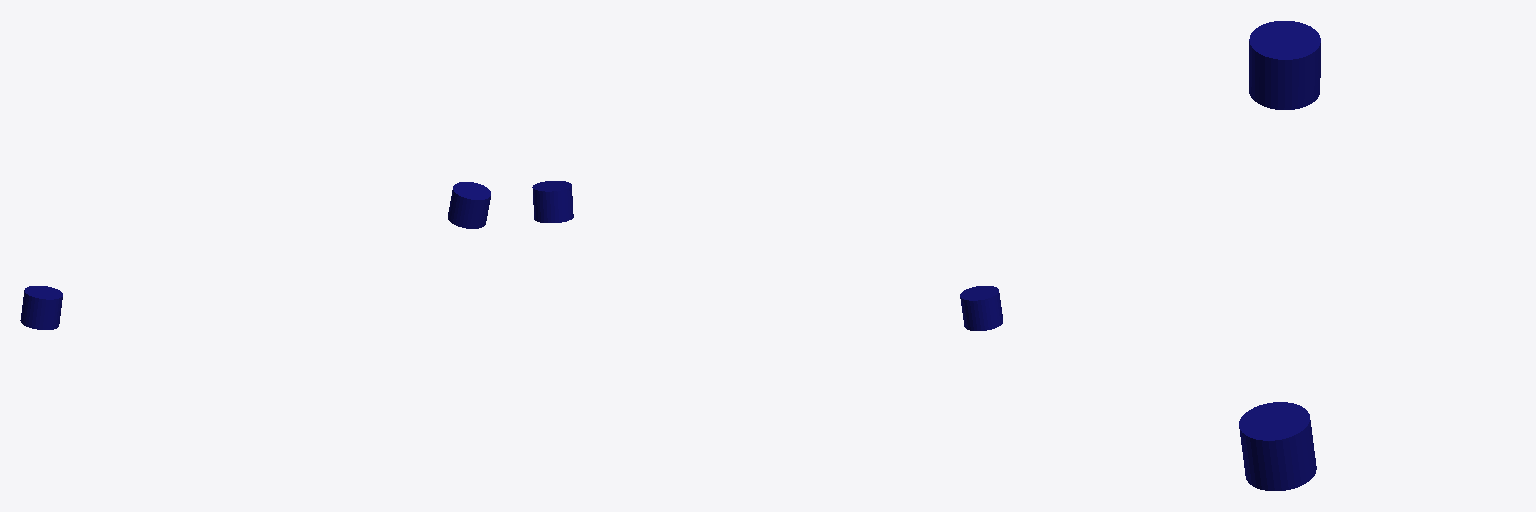
robot.urdf — leo_golf:
<?xml version="1.0" ?>
<!-- TODO: Add GPS sensor -->
<robot name="leo_golf">
  <material name="black">
    <color rgba="0.2 0.2 0.2 1"/>
  </material>
  <material name="blue">
    <color rgba="0.1 0.1 0.5 1"/>
  </material>

  <!-- base_link relates to its projection on the ground by this offset:
    <origin xyz="0 0 0.31" rpy="0 0 0"/>
  -->


  <link name="base_link">
    <visual>
      <geometry>
        <mesh filename="package://leo_golf_description/meshes/LeoGolf.obj" scale="0.001 0.001 0.001"/>
      </geometry>
      <material name="black"/>
      <origin xyz="0.83 0 0.31" rpy="0 0 1.570796"/>
    </visual>
    <collision>
      <geometry>
        <box size="5.5 2.25 2"/>
      </geometry>
      <origin xyz="0.83 0 0.31" rpy="0 0 0"/>
    </collision>
    <inertial>
      <!-- TODO: Get or calculate inertia values -->
      <origin xyz="0 0 0.013" rpy="0 0 0"/>
      <mass value="0.25"/>
      <inertia ixx="0.0003350833" ixy="0" ixz="0"
        iyy="0.000560417" iyz="0"
        izz="0.000478833"/>
    </inertial>
  </link>

  <link name="lidar_front">
    <visual>
      <geometry>
        <cylinder length="0.0869" radius="0.05165"/>
      </geometry>
      <material name="blue"/>
    </visual>
    <collision>
      <geometry>
        <cylinder length="0.0869" radius="0.05165"/>
      </geometry>
    </collision>
    <inertial>
      <!-- TODO: Get or calculate inertia values -->
      <mass value="0.1"/>
      <inertia ixx="1.02083e-5" ixy="0" ixz="0"
        iyy="1.02083e-5" iyz="0"
        izz="2e-5"/>
    </inertial>
  </link>

  <joint name="lidar_front_joint" type="fixed">
    <parent link="base_link"/>
    <child link="lidar_front"/>
    <origin xyz="1.4 0 1.422" rpy="0.111496 0.125004 0.0215759"/>
  </joint>

  <link name="lidar_rear">
    <visual>
      <geometry>
        <cylinder length="0.0869" radius="0.05165"/>
      </geometry>
      <material name="blue"/>
    </visual>
    <collision>
      <geometry>
        <cylinder length="0.0869" radius="0.05165"/>
      </geometry>
    </collision>
    <inertial>
      <!-- TODO: Get or calculate inertia values -->
      <mass value="0.1"/>
      <inertia ixx="1.02083e-5" ixy="0" ixz="0"
        iyy="1.02083e-5" iyz="0"
        izz="2e-5"/>
    </inertial>
  </link>

  <joint name="lidar_rear_joint" type="fixed">
    <parent link="base_link"/>
    <child link="lidar_rear"/>
    <origin xyz="0.1 0.01 1.422" rpy="3.13 0.146539 0"/>
  </joint>
</robot>

--- Render facts (derived) ---
3 views of the same robot in one strip: view 1: azimuth 30°, elevation 25°; view 2: azimuth 150°, elevation 25°; view 3: azimuth 270°, elevation 25° (orthographic).
Model leo_golf with 3 links and 2 joints (2 fixed), rooted at base_link, posed every joint at zero.
Links seen in each view (by area): view 1: lidar_front, lidar_rear; view 2: lidar_rear, lidar_front; view 3: lidar_rear, lidar_front.
Boxes of the visible links, x1,y1,x2,y2 form: lidar_front: (448, 182, 490, 228); lidar_rear: (20, 286, 62, 329); lidar_rear: (960, 286, 1002, 330); lidar_front: (532, 181, 573, 222); lidar_rear: (1249, 21, 1320, 109); lidar_front: (1239, 402, 1316, 490).
Size in the robot's own frame: 1.41 by 0.1182 by 0.1029 metres.
Meshes: 1 distinct files referenced, 0 mesh visuals loaded (none loaded); not drawn: 1 (file found but could not be loaded).
